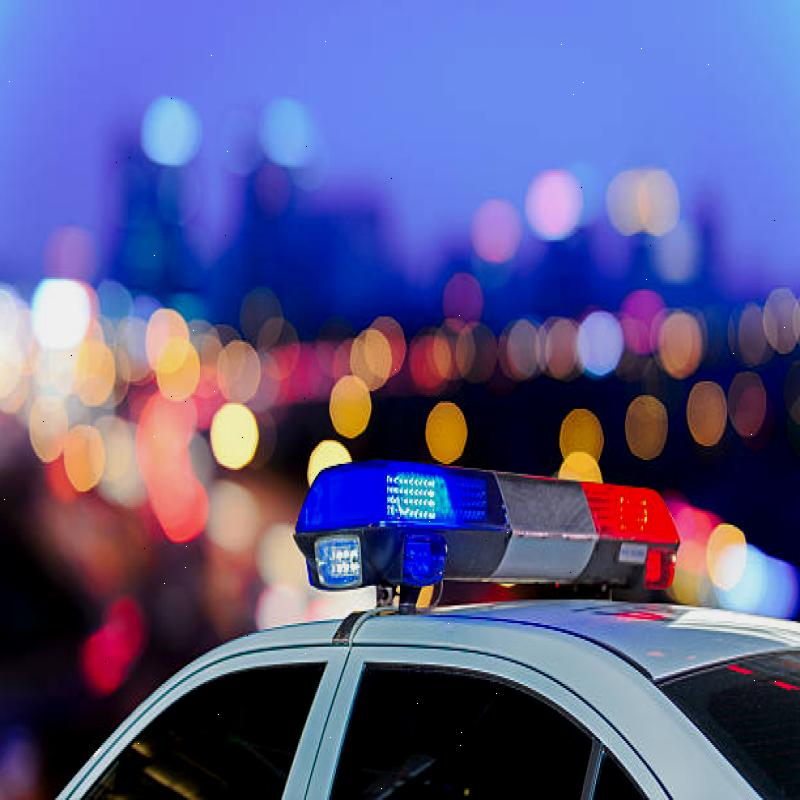AmbulanceSiren: (293, 434, 686, 640)
